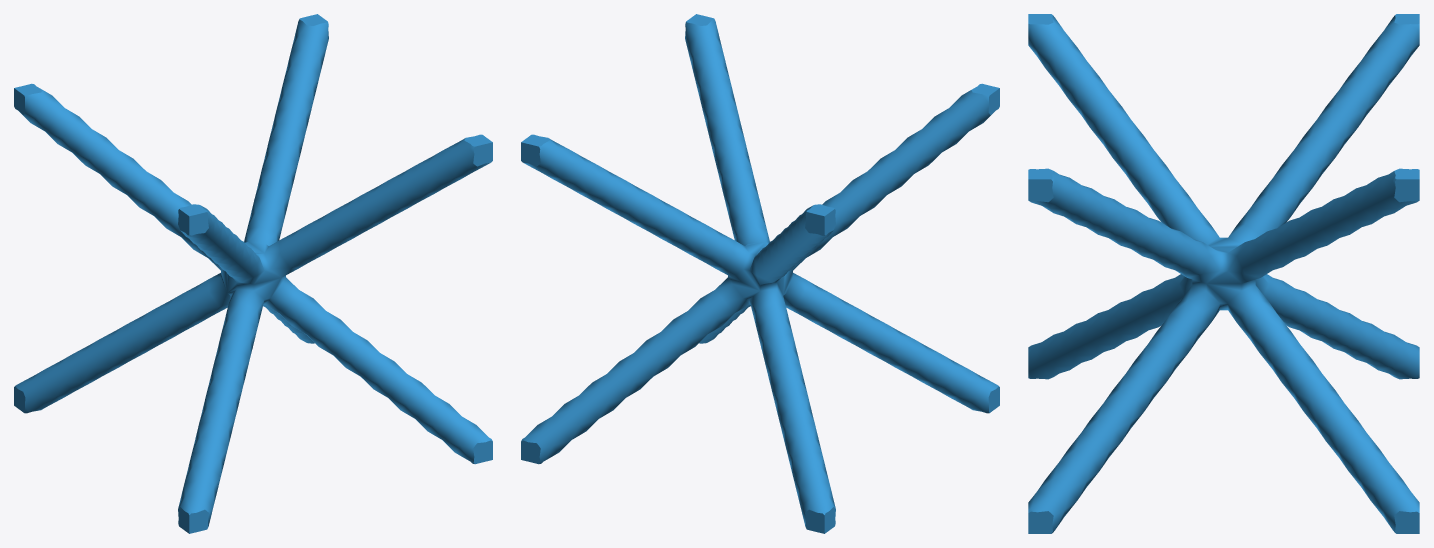
Rendered from Variation1.glb.
3 renders of one model, left to right at view 1: azimuth 30°, elevation 25°; view 2: azimuth 150°, elevation 25°; view 3: azimuth 270°, elevation 25°, orthographic. The views are drawn at different scales.
Parts seen in each view (by area): view 1: Mesh_0.007; view 2: Mesh_0.007; view 3: Mesh_0.007.
Part boxes in pixels (bbox=[...]): Mesh_0.007: bbox=[14, 14, 492, 533]; Mesh_0.007: bbox=[521, 14, 999, 533]; Mesh_0.007: bbox=[1028, 14, 1419, 533].
Bounding box in the file's own units: 1 × 1 × 1.
